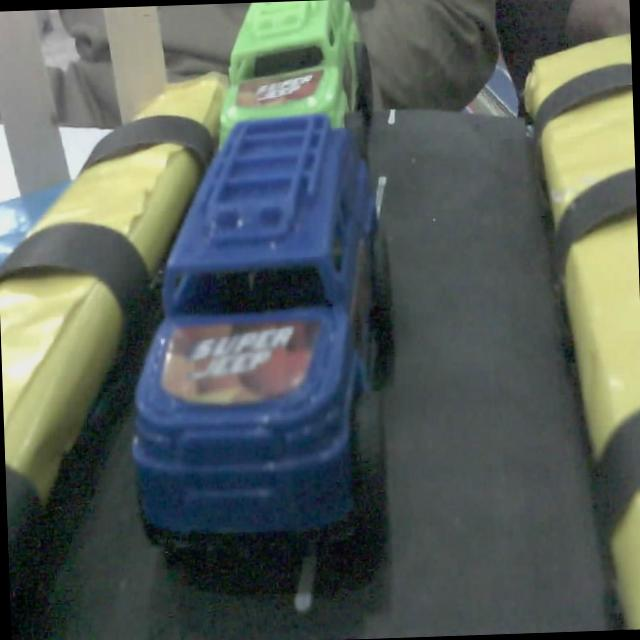TwoCar: (107, 103, 410, 581), (204, 0, 392, 163)
